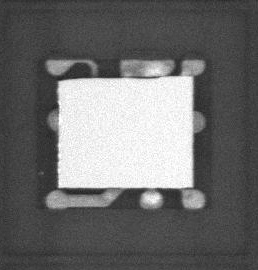DIE_BROKEN: (56, 75, 77, 82)
